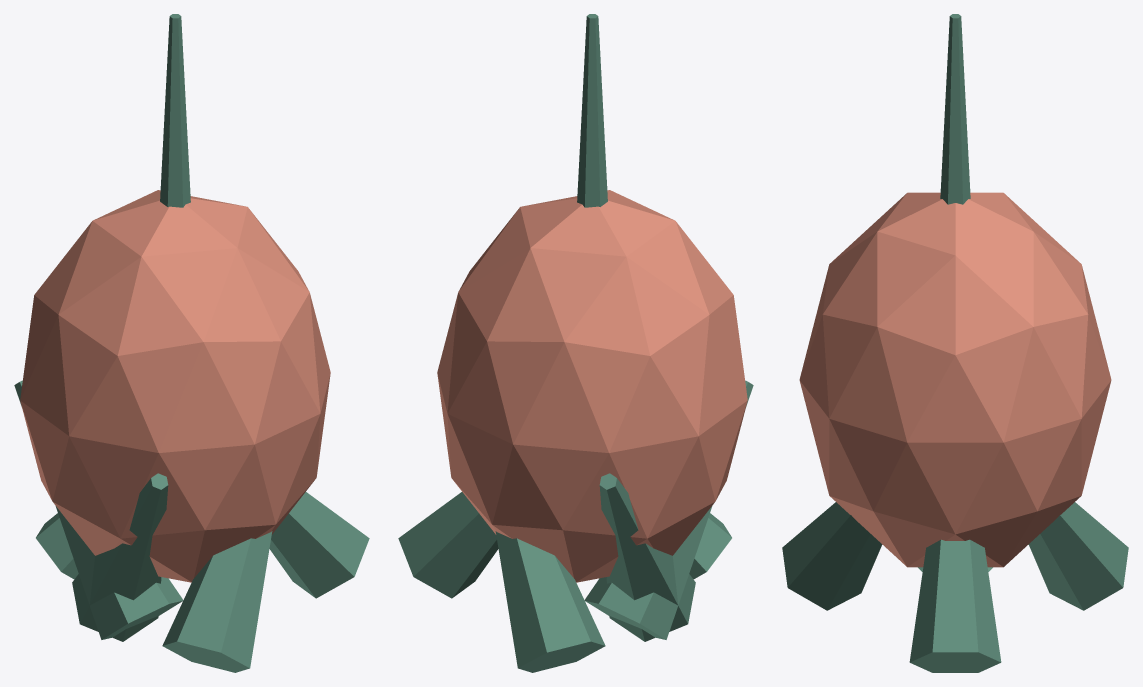
The model's file is Plant_04_LOD0.fbx.
3 renders of one model, left to right at view 1: azimuth 30°, elevation 25°; view 2: azimuth 150°, elevation 25°; view 3: azimuth 270°, elevation 25°, orthographic.
Parts seen in each view (by area): view 1: Plant_04_LOD0; view 2: Plant_04_LOD0; view 3: Plant_04_LOD0.
Part boxes in pixels (box(x1,y1,x2,y2)): Plant_04_LOD0: box(14, 14, 369, 672); Plant_04_LOD0: box(398, 14, 753, 672); Plant_04_LOD0: box(782, 14, 1128, 672).
Size of the model in its own units: 155 by 288 by 151.
